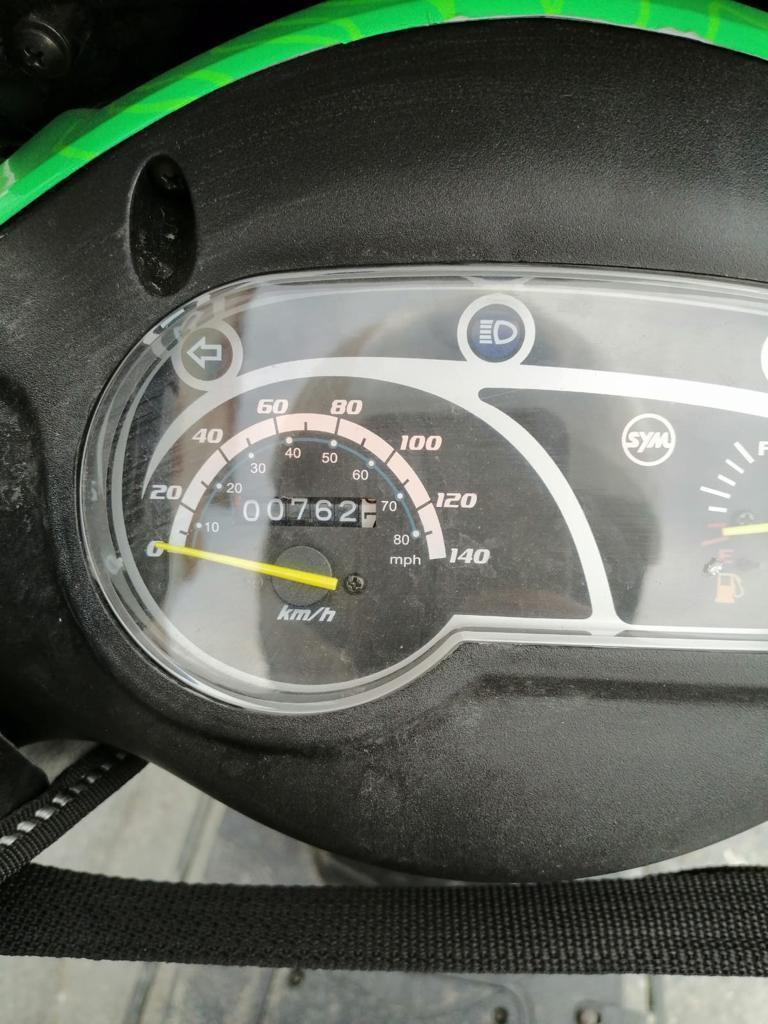0: (265, 498, 284, 522), (241, 499, 260, 522)
2: (337, 499, 358, 523)
6: (314, 498, 333, 521)
7: (289, 497, 308, 521), (362, 510, 377, 528)
odometer: (228, 490, 380, 533)
